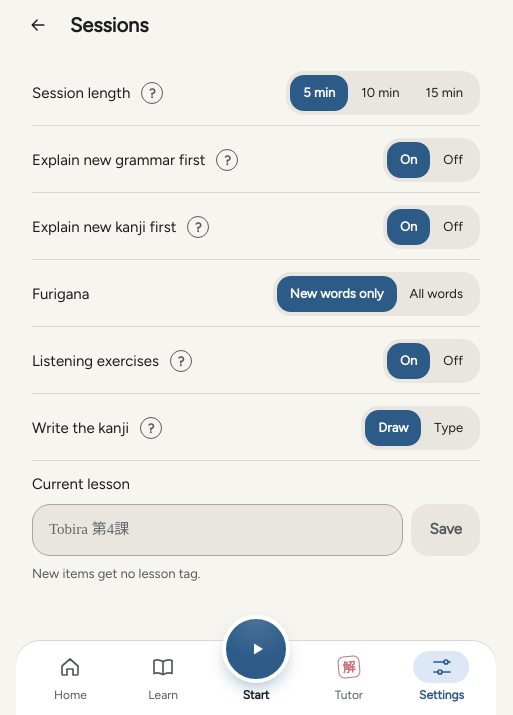
Scenario: Reading settings › keeps each explanation behind its ? until asked for
This screenshot has width=513, height=715.
Click the button named "About Write the kanji" at (151, 428), box [129,406,173,450]
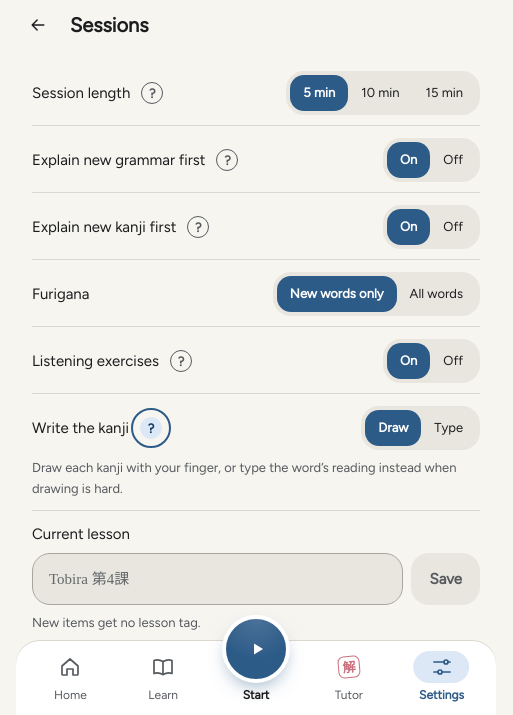
Expected: the button named "About Write the kanji" is expanded, [129,406,173,450]
